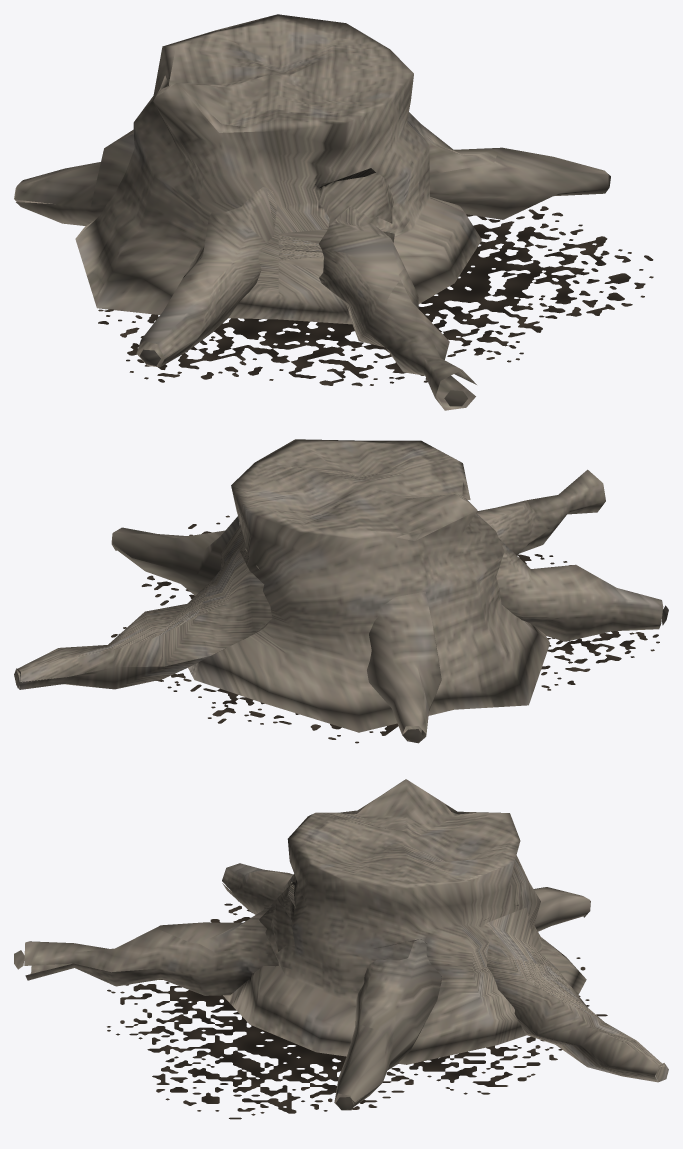
File: stump_root_flare.glb
3 renders of one model, top to bottom at view 1: azimuth 30°, elevation 25°; view 2: azimuth 150°, elevation 25°; view 3: azimuth 270°, elevation 25°, orthographic. The views are drawn at different scales.
Visible parts, largest first — view 1: stump_root_flare; view 2: stump_root_flare; view 3: stump_root_flare.
Boxes of the visible parts, box(x1,y1,x2,y2) form: stump_root_flare: box(14, 14, 653, 410); stump_root_flare: box(14, 439, 668, 743); stump_root_flare: box(14, 779, 668, 1119).
Bounding box in the file's own units: 1.25 × 0.438 × 1.41.
2 materials, 2 textured.
